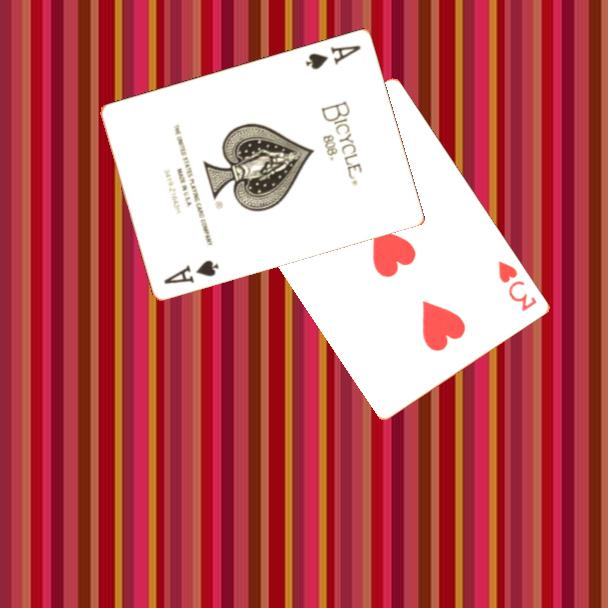h03: (495, 257, 540, 314)
s01: (302, 41, 364, 72), (160, 256, 222, 287)
